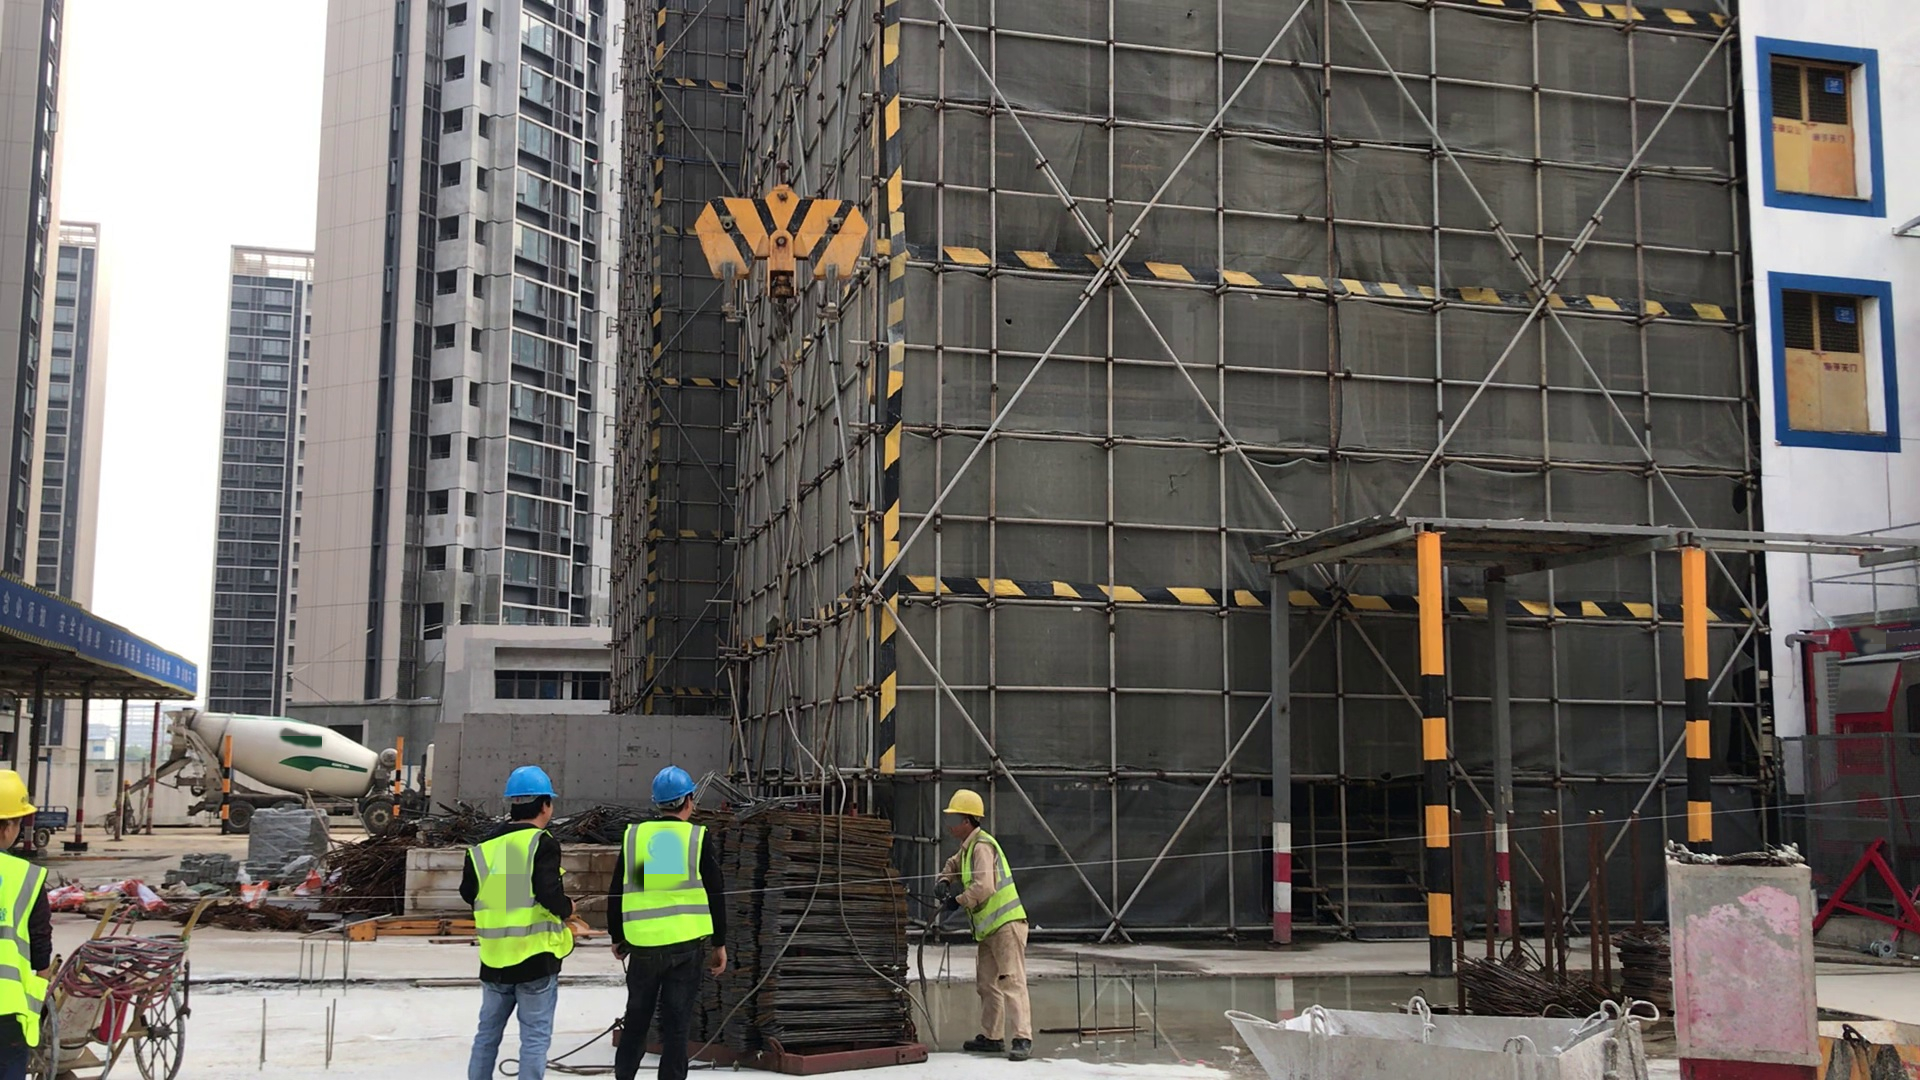handcart: (55, 897, 194, 1080)
helmet: (501, 767, 560, 802), (1, 770, 36, 822), (649, 769, 698, 802), (941, 792, 986, 821), (125, 779, 129, 785)
hook: (687, 179, 873, 316)
hopper: (1222, 989, 1659, 1080), (1815, 1005, 1919, 1080)
person: (600, 767, 733, 1079), (458, 764, 586, 1080), (936, 790, 1041, 1065), (1, 765, 58, 1080), (124, 779, 134, 835)
slogan: (3, 575, 202, 706)
vest: (465, 826, 577, 969), (623, 821, 717, 949), (1, 849, 49, 1050), (962, 833, 1030, 935)
